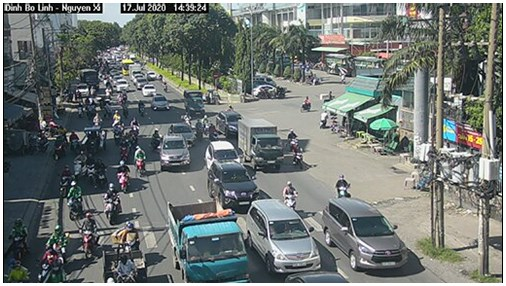xe_ba_gac: (102, 250, 152, 284), (79, 125, 106, 152)
xe_buyt: (119, 59, 135, 75)
xe_hoi: (322, 198, 410, 275), (245, 199, 321, 272), (206, 161, 260, 211), (160, 135, 192, 173), (205, 141, 243, 164), (216, 109, 239, 141), (152, 95, 171, 113), (141, 83, 157, 96), (116, 78, 130, 92), (147, 69, 159, 81)
xe_may: (38, 243, 68, 283), (78, 211, 101, 260), (107, 222, 143, 251), (9, 218, 31, 261), (44, 226, 70, 255), (103, 183, 121, 224), (65, 181, 83, 221), (56, 164, 75, 200), (6, 257, 30, 283), (115, 158, 131, 193), (73, 151, 87, 182), (133, 145, 147, 176), (292, 140, 306, 170), (284, 183, 298, 211), (94, 158, 107, 187), (85, 154, 96, 187), (299, 95, 314, 115), (336, 173, 348, 197), (119, 138, 130, 164), (285, 127, 297, 148), (151, 130, 162, 152), (54, 134, 62, 163), (208, 122, 218, 144), (111, 109, 123, 127), (137, 99, 147, 118), (131, 117, 140, 136), (70, 132, 78, 153), (92, 111, 102, 127)
xe_tai: (162, 195, 249, 283), (235, 117, 284, 173), (182, 89, 206, 118), (78, 68, 100, 90)
